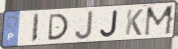D: (46, 13, 70, 42)
I: (30, 13, 41, 44)
J: (74, 10, 95, 41), (99, 9, 119, 38)
K: (124, 8, 145, 37)
M: (143, 4, 176, 38)
